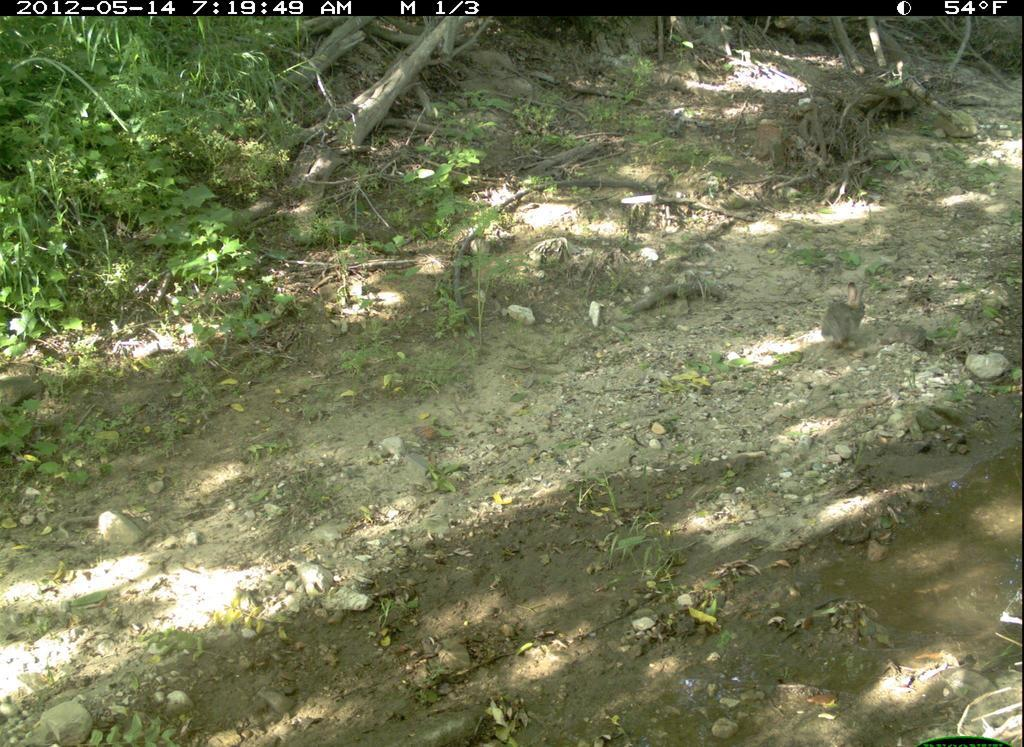rabbit: (817, 281, 875, 354)
